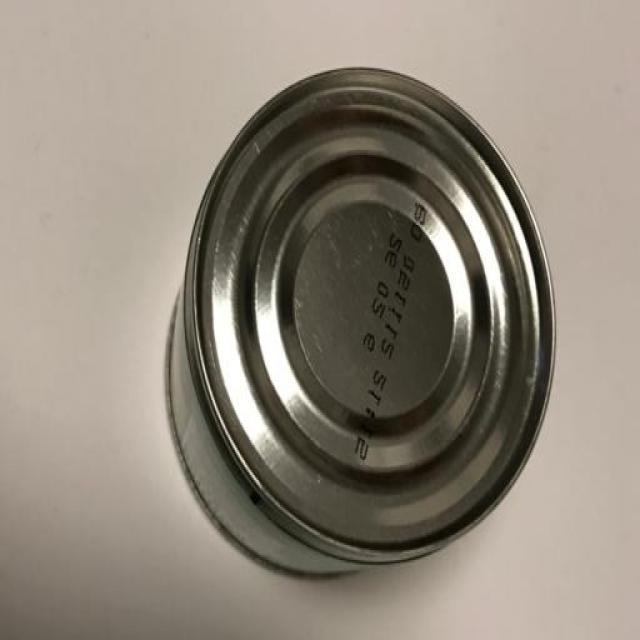metal: (156, 57, 565, 593)
